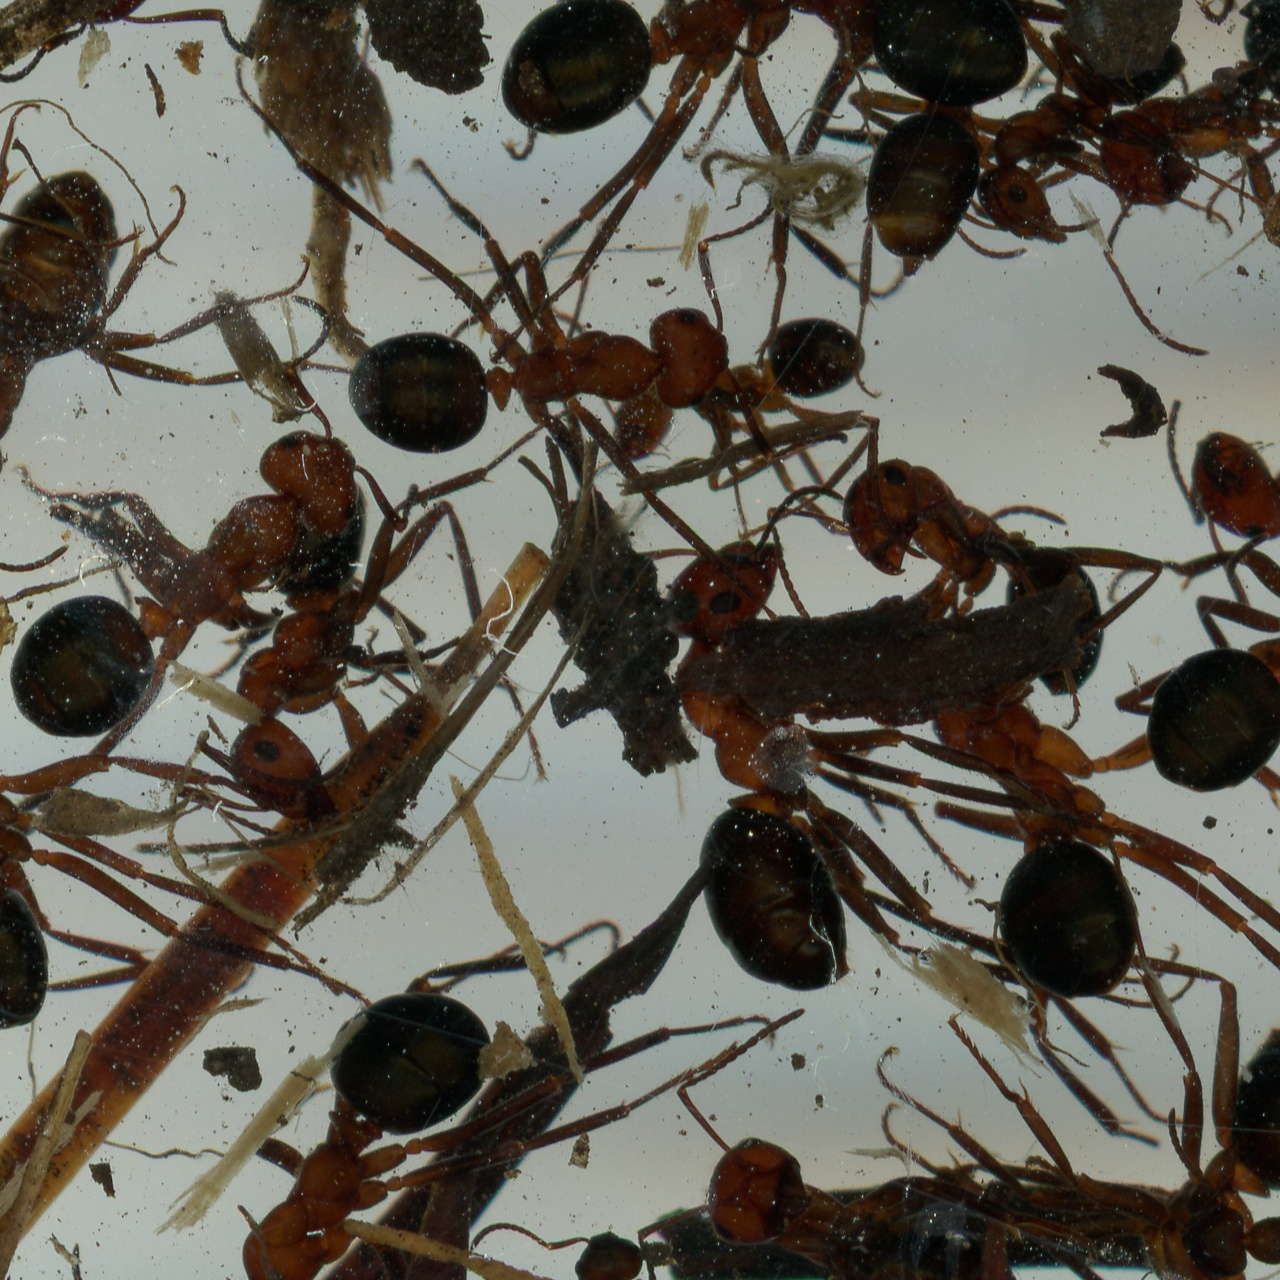arthropod: (0, 291, 428, 836), (144, 866, 706, 1280), (544, 906, 1115, 1280), (0, 35, 325, 635), (844, 592, 1212, 1116), (288, 136, 731, 473), (467, 0, 901, 318), (594, 498, 863, 991), (1020, 0, 1280, 387), (1021, 930, 1280, 1280), (924, 0, 1200, 302), (844, 417, 1144, 692), (150, 492, 369, 823), (820, 0, 1059, 300), (0, 548, 144, 1035), (601, 308, 878, 517), (1117, 483, 1280, 835), (1148, 214, 1280, 598), (469, 1191, 831, 1280), (0, 0, 257, 93), (1165, 1130, 1280, 1280)
